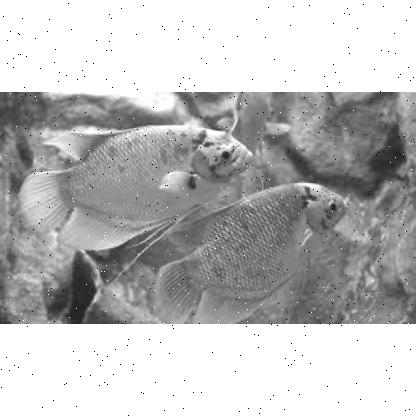gurame: (21, 123, 252, 247), (155, 180, 347, 322)
